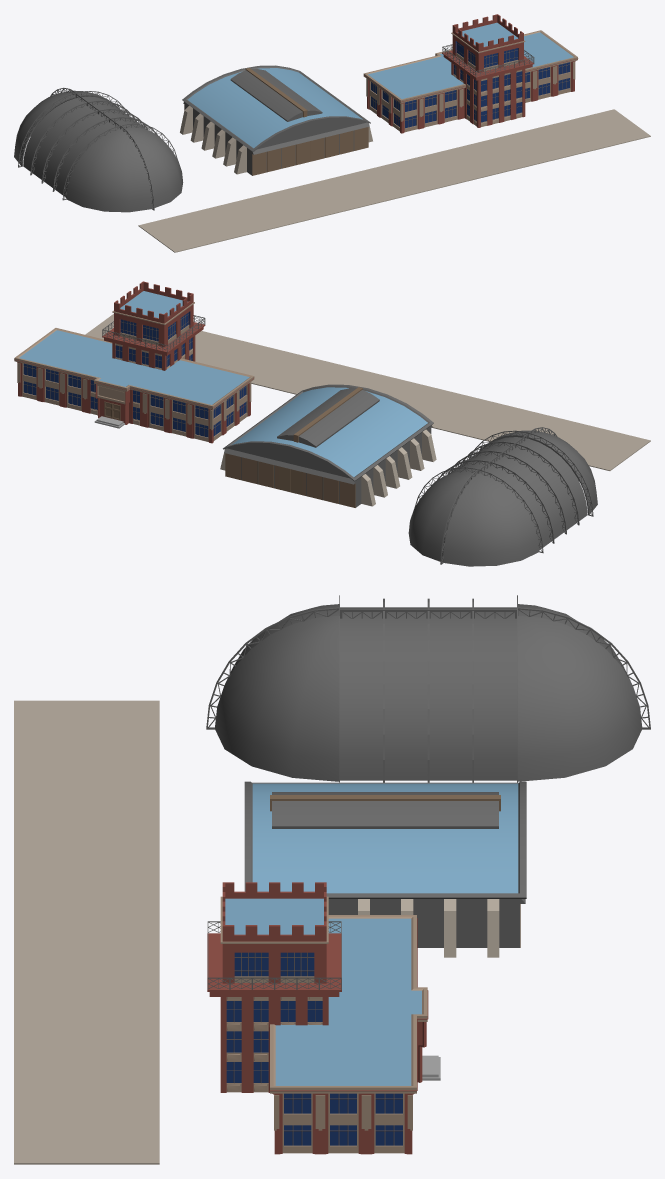
Rendered from Airfield.fbx.
3 views of the same model, one above another, from view 1: azimuth 30°, elevation 25°; view 2: azimuth 150°, elevation 25°; view 3: azimuth 270°, elevation 25° (orthographic). The views are drawn at different scales.
Visible parts, largest first — view 1: Landing_strip, pSphere8_DUP (×3), pCube3, pSphere7, Roof, pCube14_DUP, pCube13_DUP, Facade9_DUP3, pPlane6, pPlane66, Facade9_DUP, Facade6_DUP8 (+6 smaller); view 2: Landing_strip, pSphere8_DUP (×3), pCube3, Roof, pSphere7, pCube14_DUP1, pCube13_DUP, Facade9_DUP2, pPlane63, pPlane66, Facade9_DUP1, pPlane20 (+9 smaller); view 3: Landing_strip, pSphere8_DUP (×4), pSphere7, pCube3, Roof, pCube13_DUP, pPlane62, pPlane66, Facade9_DUP, Facade9_DUP1, Facade6_DUP2, pPlane65_DUP1 (+9 smaller).
Part boxes in pixels (x1=…): Landing_strip: x1=138, y1=109, x2=650, y2=252; pSphere8_DUP (×3): x1=14, y1=92, x2=183, y2=212; pCube3: x1=182, y1=65, x2=370, y2=175; pSphere7: x1=23, y1=96, x2=145, y2=197; Roof: x1=368, y1=32, x2=573, y2=98; pCube14_DUP: x1=252, y1=127, x2=368, y2=175; pCube13_DUP: x1=230, y1=68, x2=322, y2=121; Facade9_DUP3: x1=388, y1=91, x2=422, y2=133; pPlane6: x1=478, y1=41, x2=525, y2=72; pPlane66: x1=458, y1=22, x2=518, y2=46; Facade9_DUP: x1=555, y1=48, x2=578, y2=95; Facade6_DUP8: x1=421, y1=89, x2=442, y2=128; Landing_strip: x1=85, y1=314, x2=650, y2=470; pSphere8_DUP (×3): x1=408, y1=432, x2=597, y2=566; pCube3: x1=223, y1=384, x2=433, y2=507; Roof: x1=19, y1=330, x2=249, y2=404; pSphere7: x1=448, y1=437, x2=587, y2=550; pCube14_DUP1: x1=225, y1=453, x2=355, y2=507; pCube13_DUP: x1=277, y1=387, x2=379, y2=447; Facade9_DUP2: x1=188, y1=395, x2=227, y2=443; pPlane63: x1=112, y1=311, x2=164, y2=346; pPlane66: x1=120, y1=291, x2=187, y2=318; Facade9_DUP1: x1=14, y1=347, x2=40, y2=401; pPlane20: x1=95, y1=384, x2=129, y2=424; Landing_strip: x1=14, y1=700, x2=159, y2=1164; pSphere8_DUP (×4): x1=215, y1=604, x2=642, y2=781; pSphere7: x1=340, y1=607, x2=516, y2=780; pCube3: x1=244, y1=781, x2=526, y2=947; Roof: x1=275, y1=918, x2=421, y2=1085; pCube13_DUP: x1=270, y1=792, x2=500, y2=828; pPlane62: x1=220, y1=941, x2=328, y2=983; pPlane66: x1=225, y1=898, x2=323, y2=934; Facade9_DUP: x1=269, y1=1066, x2=320, y2=1154; Facade9_DUP1: x1=366, y1=1066, x2=417, y2=1154; Facade6_DUP2: x1=320, y1=1086, x2=366, y2=1154; pPlane65_DUP1: x1=207, y1=983, x2=341, y2=996.
Size of the model in its own units: 94.69 by 14.89 by 51.82.
